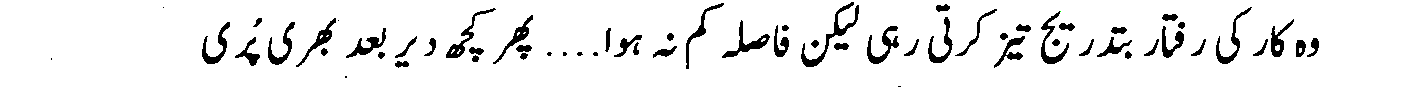bay_shosha: (1121, 38, 1135, 60)
